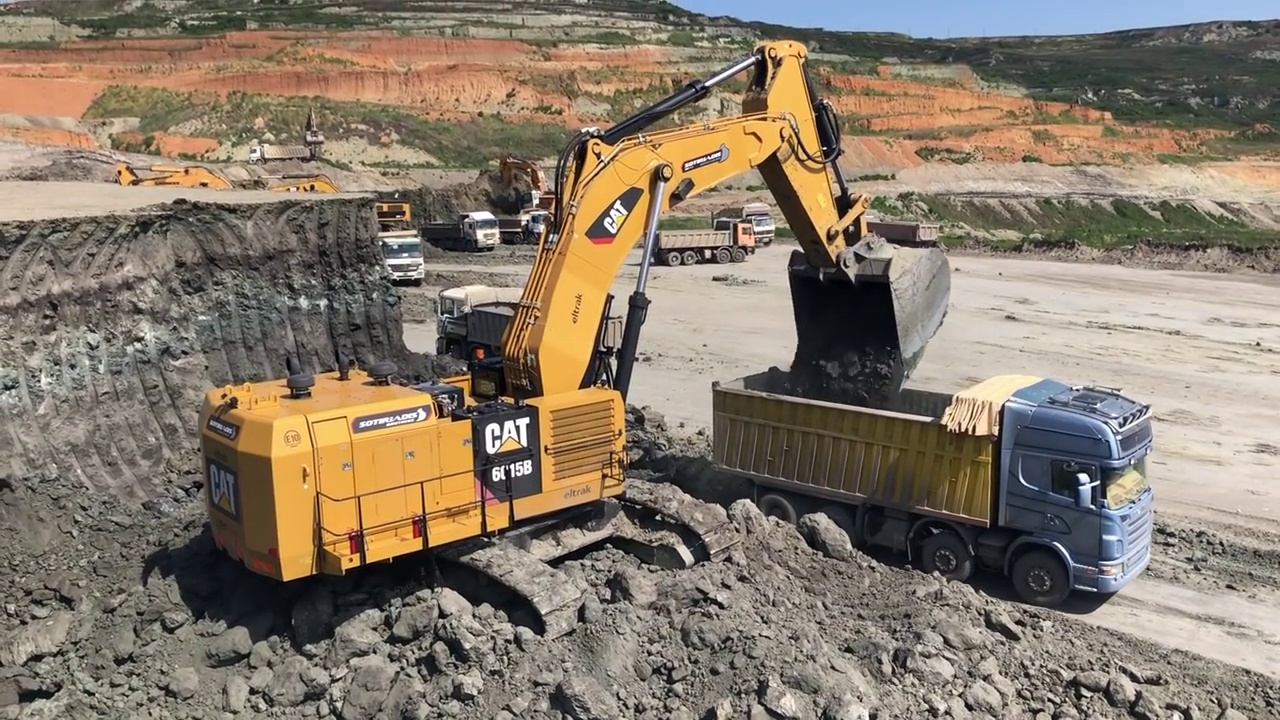excavator: (201, 36, 955, 637)
truck: (711, 363, 1165, 610), (651, 214, 756, 268), (349, 224, 428, 285), (700, 199, 774, 251), (421, 209, 497, 250)
